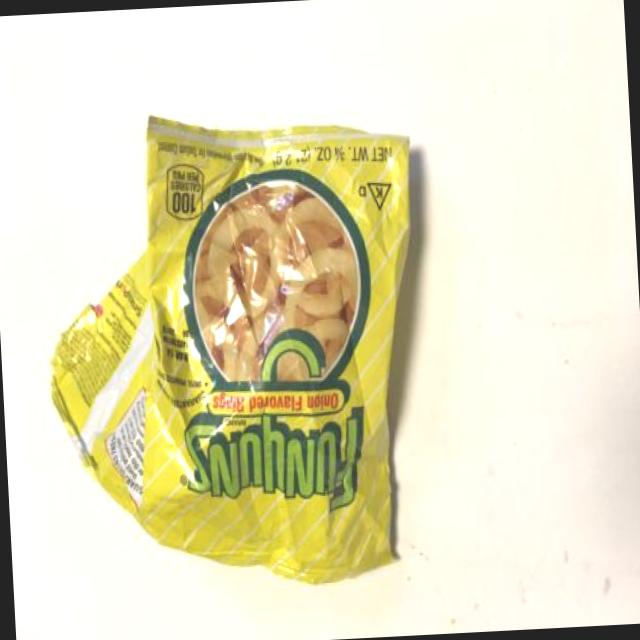bao_bi_thuc_pham: (50, 118, 421, 589)
